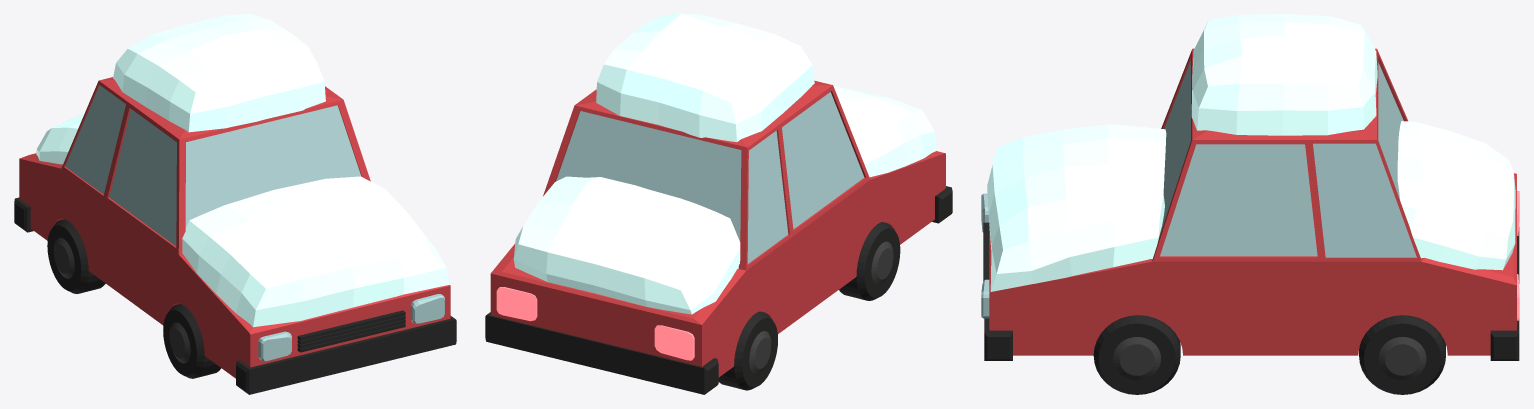
Rendered from auto die anderen mit schnee drauf.fbx.
The picture shows the model from 3 angles, left to right: view 1: azimuth 30°, elevation 25°; view 2: azimuth 150°, elevation 25°; view 3: azimuth 270°, elevation 25°; orthographic projection. The views are drawn at different scales.
Visible parts, largest first — view 1: auto, snow.001, snow, frontscheibe, reifen vr, reifen hl, snow.002; view 2: auto, snow.002, snow, snow.001, reifen vr, reifen hl; view 3: auto, snow.001, snow, seitenfenster, snow.002, reifen vl, reifen hl.001, frontscheibe.
Boxes of the visible parts, bbox=[...] form: auto: bbox=[14, 77, 456, 394]; snow.001: bbox=[182, 176, 449, 327]; snow: bbox=[113, 14, 325, 132]; frontscheibe: bbox=[185, 105, 361, 227]; reifen vr: bbox=[163, 304, 221, 378]; reifen hl: bbox=[47, 219, 105, 293]; snow.002: bbox=[36, 113, 84, 164]; auto: bbox=[485, 80, 952, 394]; snow.002: bbox=[513, 176, 740, 314]; snow: bbox=[596, 14, 814, 142]; snow.001: bbox=[833, 85, 935, 177]; reifen vr: bbox=[839, 222, 900, 300]; reifen hl: bbox=[718, 311, 777, 390]; auto: bbox=[981, 48, 1519, 360]; snow.001: bbox=[987, 124, 1166, 291]; snow: bbox=[1191, 14, 1377, 135]; seitenfenster: bbox=[1160, 144, 1317, 256]; snow.002: bbox=[1397, 121, 1515, 270]; reifen vl: bbox=[1093, 315, 1180, 394]; reifen hl.001: bbox=[1359, 315, 1445, 394]; frontscheibe: bbox=[1159, 61, 1190, 237].
Bounding box in the file's own units: 323 × 384 × 612.
